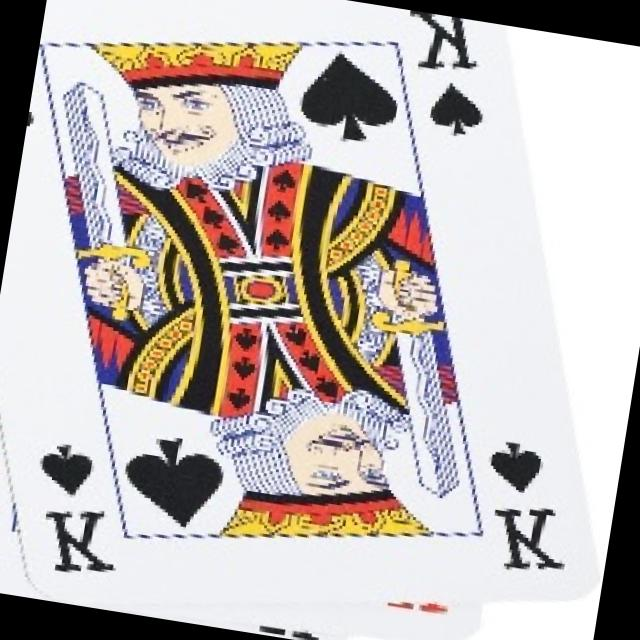King: (486, 500, 574, 576), (38, 502, 122, 580), (400, 10, 483, 77)
Spade: (119, 431, 228, 534), (295, 49, 405, 148), (428, 80, 488, 140), (37, 440, 95, 498), (486, 442, 544, 496)
